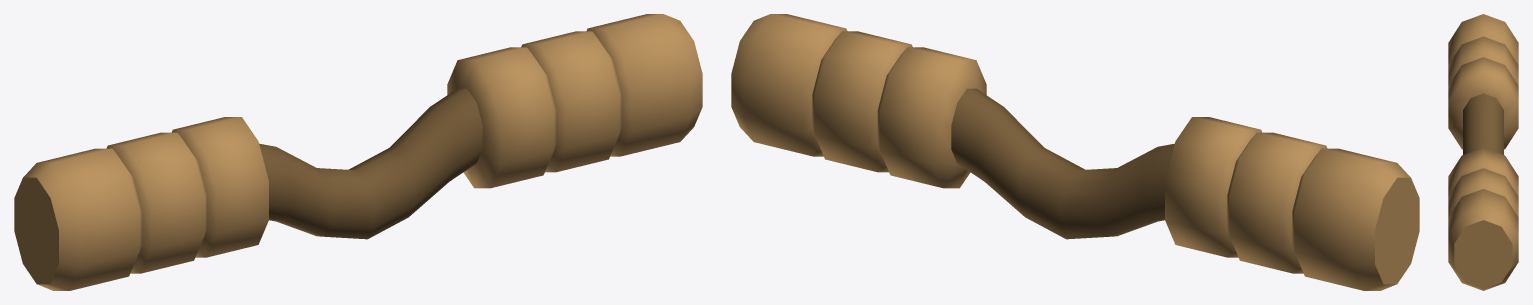
File: Longbow-handle.FBX
3 renders of one model, left to right at view 1: azimuth 30°, elevation 25°; view 2: azimuth 150°, elevation 25°; view 3: azimuth 270°, elevation 25°, orthographic. The views are drawn at different scales.
Parts seen in each view (by area): view 1: Model; view 2: Model; view 3: Model.
Boxes of the visible parts, x1,y1,x2,y2 form: Model: [14, 14, 702, 290]; Model: [731, 14, 1419, 290]; Model: [1448, 14, 1518, 290].
Size of the model in its own units: 129 by 28.73 by 18.72.
